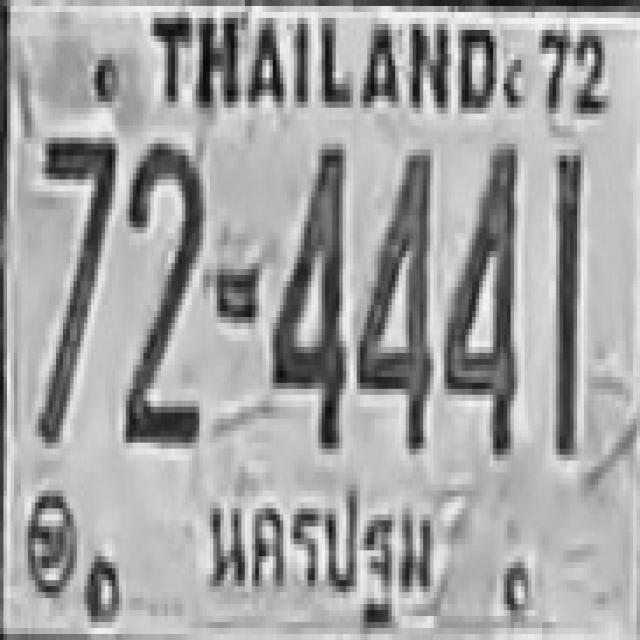1: (551, 150, 582, 454)
2: (121, 140, 201, 440)
4: (442, 140, 520, 452), (355, 144, 432, 448), (268, 138, 344, 442)
7: (38, 132, 116, 442), (42, 132, 115, 412)
NakhonPathom: (201, 479, 451, 625)
